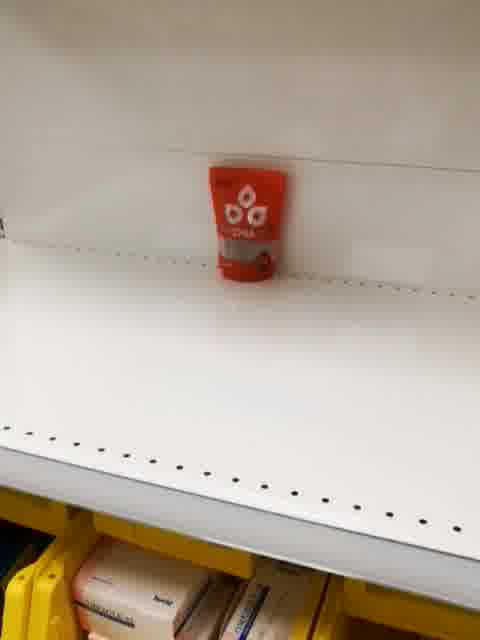whitechia: (205, 163, 293, 283)
